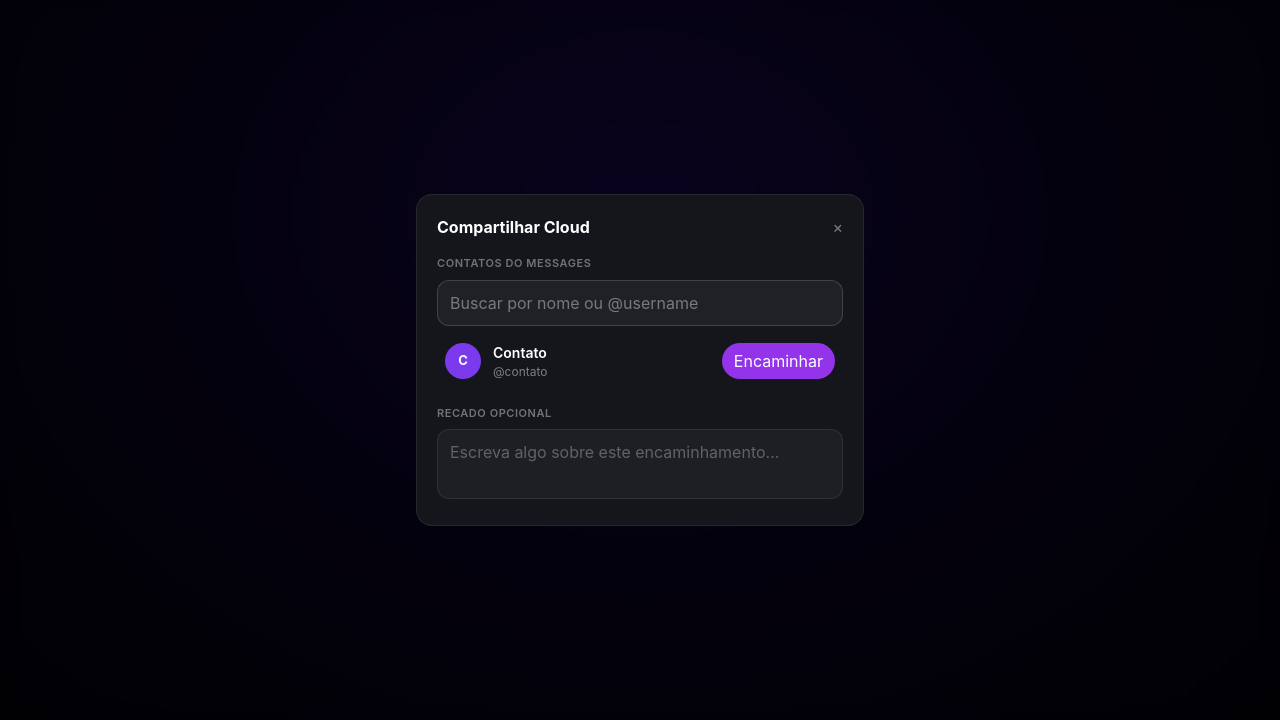
Test: Cloud contact sharing state › keeps the Cloud marked as sent when only the optional note fails
The image size is (1280, 720).
Type "Meu recado" into the text box labelled "Recado opcional". click: point(640, 464)
box: [437, 429, 843, 499]
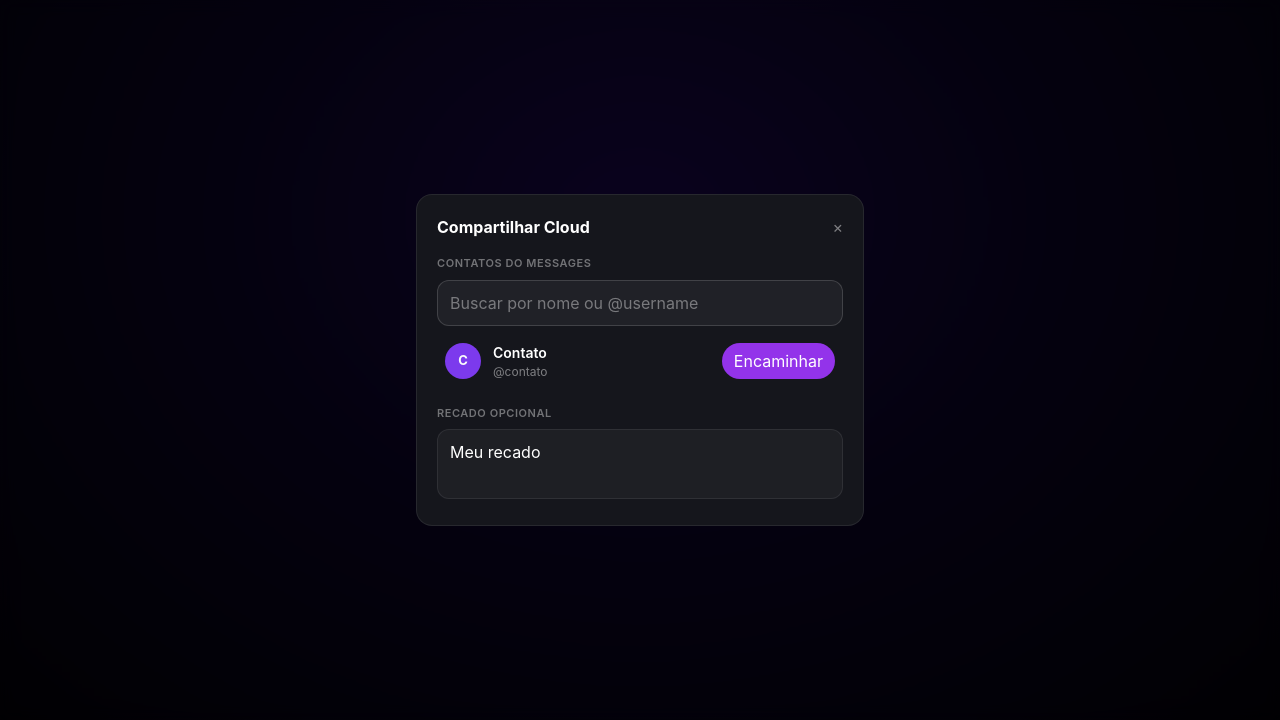
Click the button "Encaminhar". click: point(778, 361)
box: [722, 343, 835, 379]
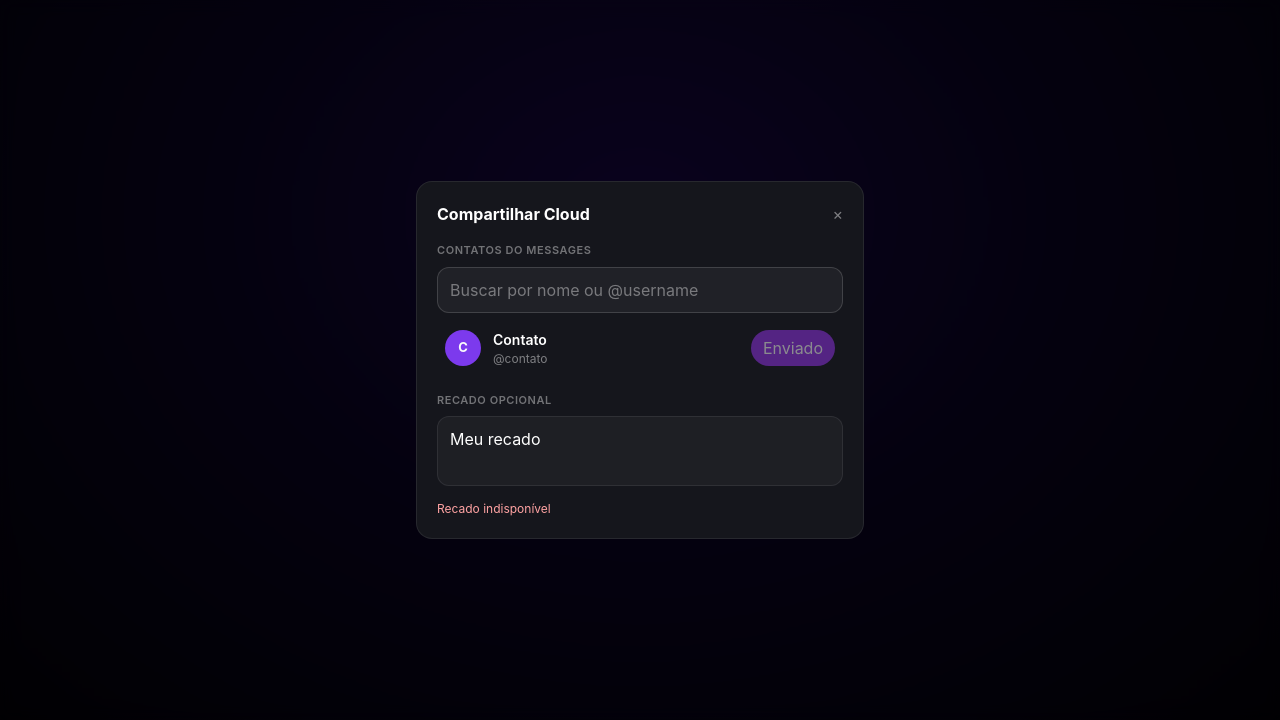
Check: the text "Recado indisponível" is shown, box [437, 501, 551, 516]
Check: the button "Enviado" is disabled, box [751, 330, 835, 366]
